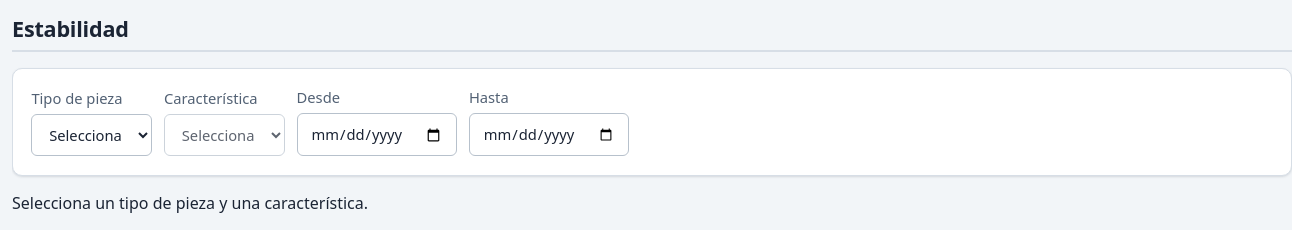
Test: ignores stale characteristic and analysis responses after selecting another part
This screenshot has width=1292, height=230.
Select "PT-100" in the dropdown labelled "Tipo de pieza" at (92, 135), box [31,114,152,156]
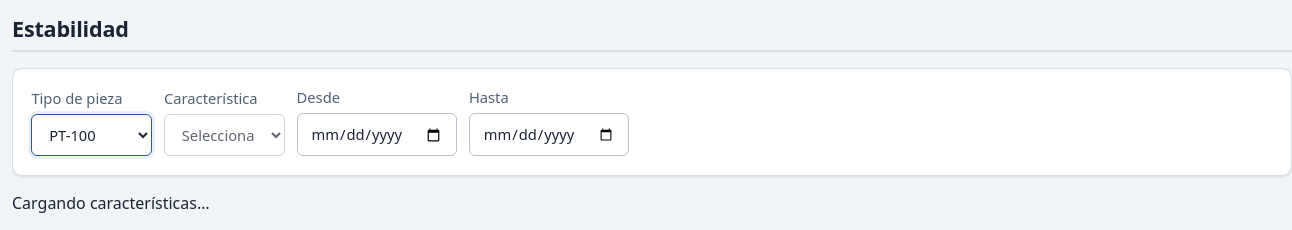
Select "PT-200" in the dropdown labelled "Tipo de pieza" at (92, 135), box [31,114,152,156]
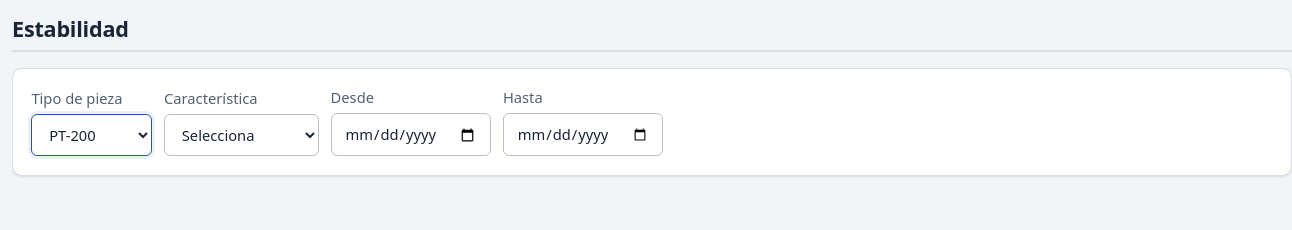
Select "D2 — Diámetro" in the dropdown labelled "Característica" at (241, 135), box [164,114,319,156]
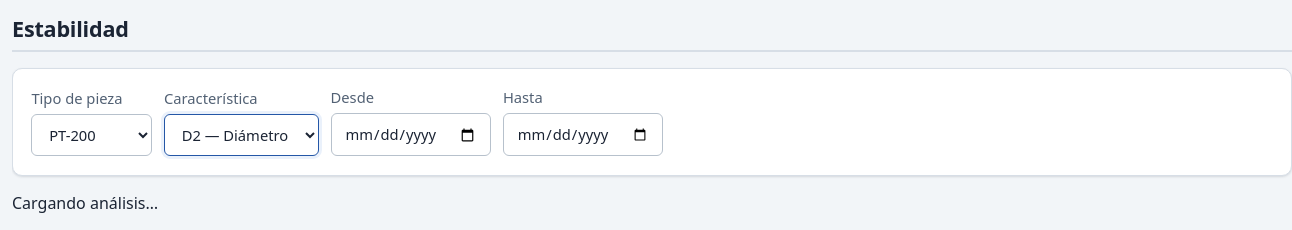
Select "Selecciona" in the dropdown labelled "Tipo de pieza" at (92, 135), box [31,114,152,156]
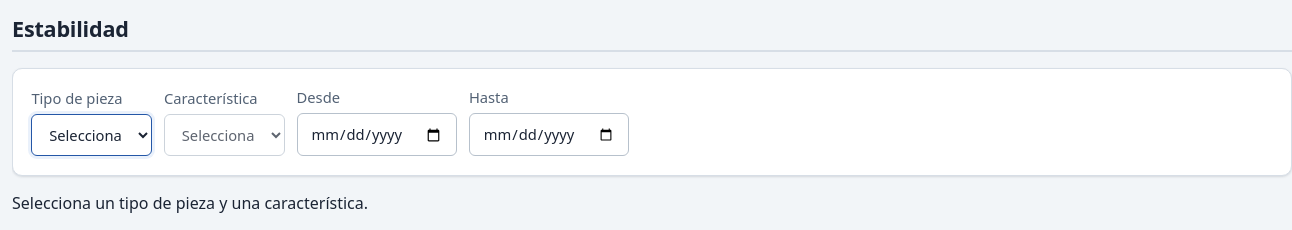
Expected: the dropdown labelled "Característica" is disabled, [164,114,285,156]
